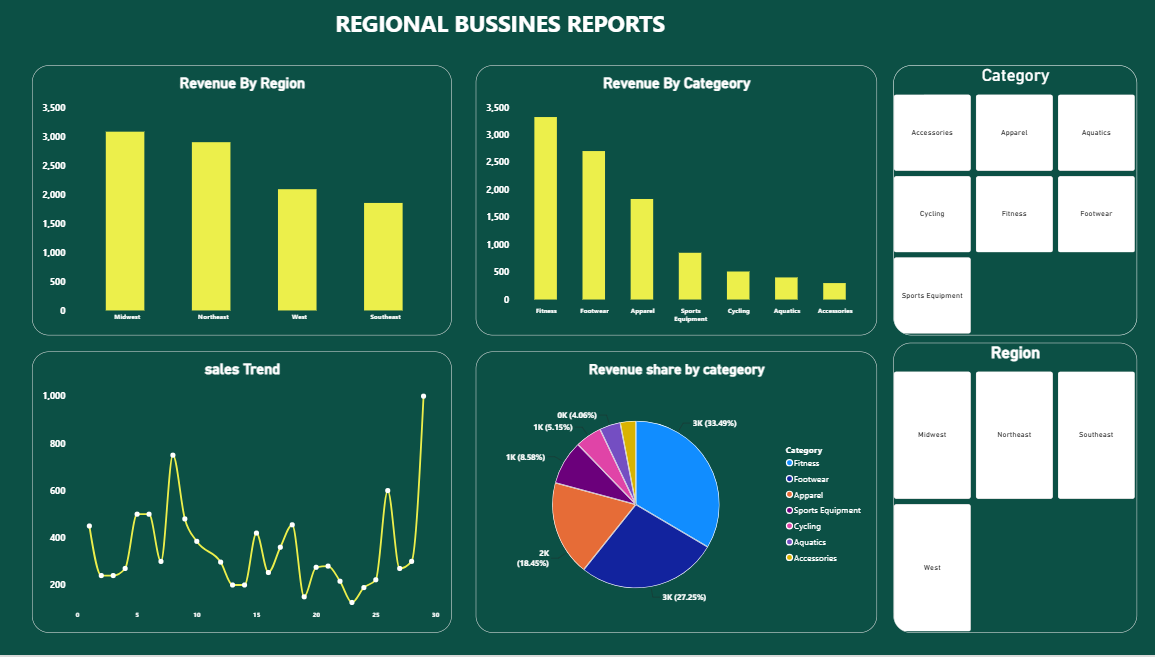

The page's visual inventory and layout, read from the dashboard file:
{"tool":"powerbi","page":{"name":"Page 2","canvas":[1920,1080],"ordinal":1},"visuals":[{"type":"clusteredColumnChart","title":"Revenue By Region","fields":{"Category":["Regionalsales.Region"],"Y":["Sum(Regionalsales.SaleAmount)"]},"box":[65.9,109.1,691.6,444.6],"z":0},{"type":"clusteredColumnChart","title":"Revenue By Categeory","fields":{"Category":["Regionalsales.Category"],"Y":["Sum(Regionalsales.SaleAmount)"]},"box":[796.6,109.1,660.7,444.6],"z":1},{"type":"lineChart","title":"sales Trend","fields":{"Category":["Regionalsales.OrderDate.Variation.Date Hierarchy.Day"],"Y":["Sum(Regionalsales.SaleAmount)"]},"box":[65.9,580.4,691.6,463.1],"z":2},{"type":"pieChart","title":"Revenue share by categeory","fields":{"Category":["Regionalsales.Category"],"Y":["Sum(Regionalsales.SaleAmount)"]},"box":[796.6,580.4,660.7,463.1],"z":3},{"type":"advancedSlicerVisual","fields":{"Values":["Regionalsales.Category"]},"box":[1484.1,109.1,401.4,444.6],"z":4},{"type":"advancedSlicerVisual","fields":{"Values":["Regionalsales.Region"]},"box":[1484.1,566,401.4,477.5],"z":5},{"type":"textbox","box":[150.3,14.4,1383.2,187.3],"z":6}]}

Visuals, with their boxes in screenshot pixels (x1, y1, x2, y2), scaled from the page's 1920x1080 canvas onto the 1155x657 screenshot:
"Revenue By Region" clusteredColumnChart: pyautogui.locateOnScreen(40, 66, 456, 337)
"Revenue By Categeory" clusteredColumnChart: pyautogui.locateOnScreen(479, 66, 877, 337)
"sales Trend" lineChart: pyautogui.locateOnScreen(40, 353, 456, 635)
"Revenue share by categeory" pieChart: pyautogui.locateOnScreen(479, 353, 877, 635)
advancedSlicerVisual - Regionalsales.Category: pyautogui.locateOnScreen(893, 66, 1134, 337)
advancedSlicerVisual - Regionalsales.Region: pyautogui.locateOnScreen(893, 344, 1134, 635)
textbox: pyautogui.locateOnScreen(90, 9, 922, 123)
